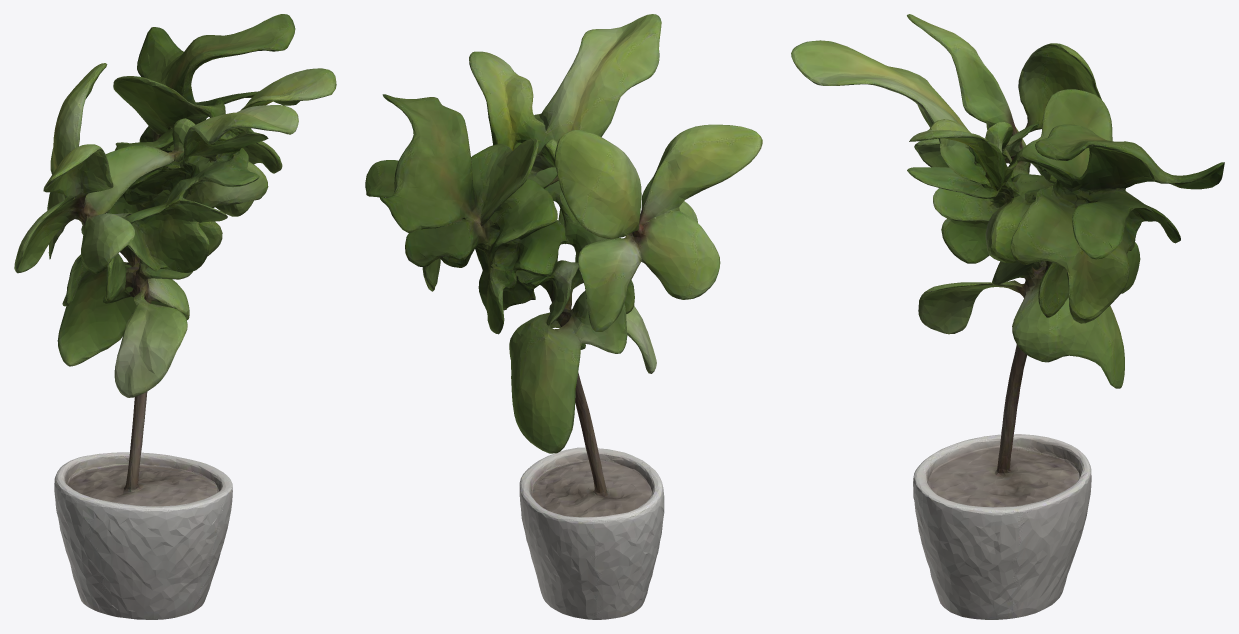
The model's file is large_potted_fiddle_leaf_fig_plant_000.glb.
3 renders of one model, left to right at view 1: azimuth 30°, elevation 25°; view 2: azimuth 150°, elevation 25°; view 3: azimuth 270°, elevation 25°, orthographic. The views are drawn at different scales.
Parts seen in each view (by area): view 1: phase2_final_large_potted_fiddle_leaf_fig_plant_000.obj; view 2: phase2_final_large_potted_fiddle_leaf_fig_plant_000.obj; view 3: phase2_final_large_potted_fiddle_leaf_fig_plant_000.obj.
Part boxes in pixels (x1,y1,x2,y2): phase2_final_large_potted_fiddle_leaf_fig_plant_000.obj: (14, 14, 336, 619); phase2_final_large_potted_fiddle_leaf_fig_plant_000.obj: (365, 14, 762, 619); phase2_final_large_potted_fiddle_leaf_fig_plant_000.obj: (791, 14, 1224, 619).
Bounding box in the file's own units: 0.7109 × 1.08 × 0.7532.
Materials: 1 (1 with a texture image).
